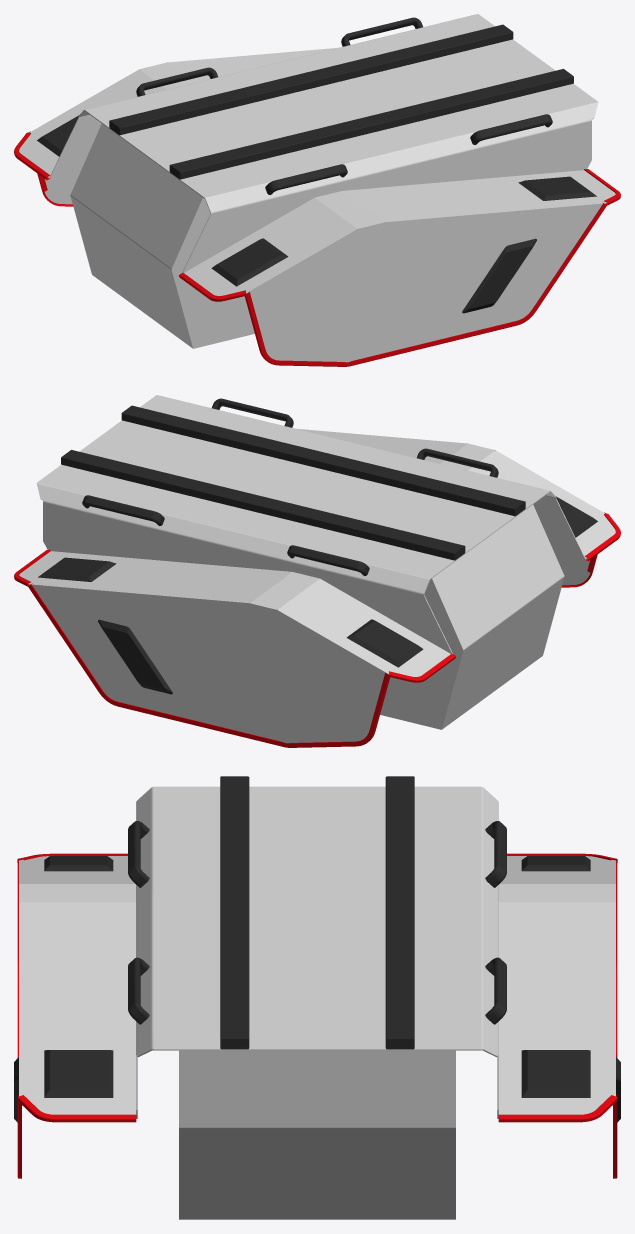
Rendered from BunkerPro_Body.dae.
The picture shows the model from 3 angles, top to bottom: view 1: azimuth 30°, elevation 25°; view 2: azimuth 150°, elevation 25°; view 3: azimuth 270°, elevation 25°; orthographic projection. The views are drawn at different scales.
Parts seen in each view (by area): view 1: Shell, Body, Rails, Vents, Rim, Handles; view 2: Shell, Body, Rails, Vents, Rim, Handles; view 3: Shell, Body, Rails, Vents, Rim, Handles.
Part boxes in pixels (x1,y1,x2,y2): Shell: [19, 14, 615, 362]; Body: [70, 123, 254, 348]; Rails: [109, 24, 573, 179]; Vents: [37, 115, 596, 313]; Rim: [14, 131, 620, 366]; Handles: [136, 17, 552, 194]; Shell: [19, 395, 615, 743]; Body: [380, 504, 564, 729]; Rails: [61, 405, 525, 560]; Vents: [38, 496, 597, 694]; Rim: [14, 512, 620, 747]; Handles: [82, 398, 498, 575]; Shell: [19, 786, 615, 1118]; Body: [179, 1050, 455, 1219]; Rails: [220, 776, 414, 1049]; Vents: [14, 856, 620, 1122]; Rim: [17, 853, 617, 1178]; Handles: [128, 821, 506, 1024].
Size of the model in its own units: 0.9345 by 0.844 by 0.3463.
